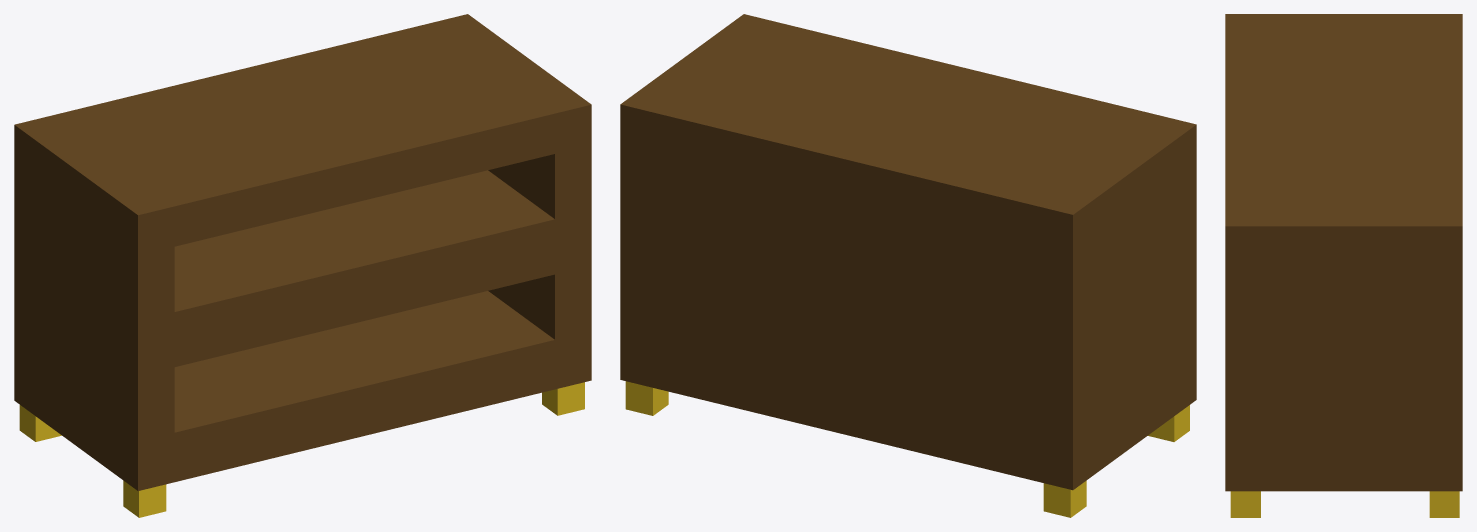
The model's file is drawer_10.glb.
3 renders of one model, left to right at view 1: azimuth 30°, elevation 25°; view 2: azimuth 150°, elevation 25°; view 3: azimuth 270°, elevation 25°, orthographic. The views are drawn at different scales.
Visible parts, largest first — view 1: Drawer A; view 2: Drawer A; view 3: Drawer A.
Boxes of the visible parts, x1,y1,x2,y2 form: Drawer A: (14, 14, 591, 517); Drawer A: (620, 14, 1196, 517); Drawer A: (1225, 14, 1462, 517).
Bounding box in the file's own units: 1.48 × 0.9509 × 0.6981.
Materials: 1 (1 with a texture image).
